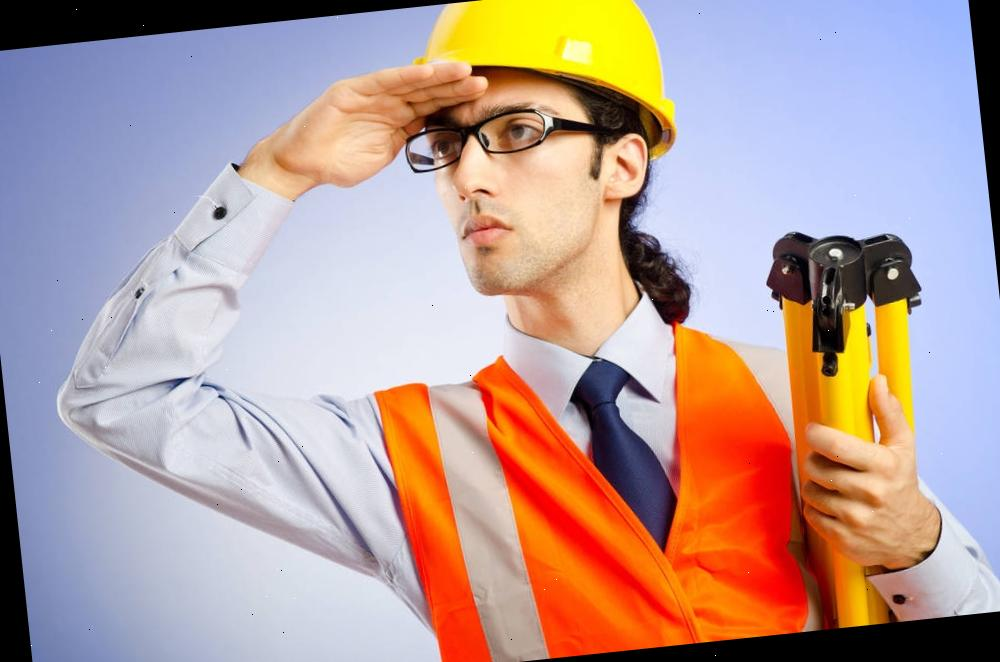helmet: (382, 0, 684, 175)
wear: (357, 341, 870, 662)
